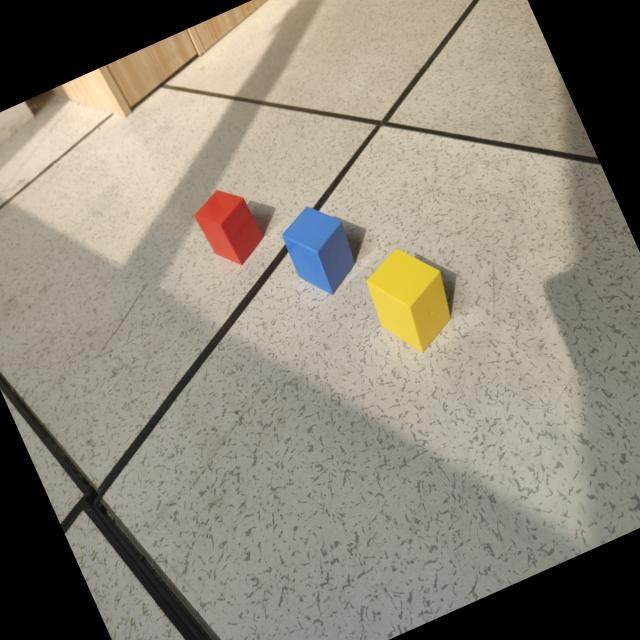blue: (279, 205, 359, 294)
red: (192, 185, 266, 265)
yellow: (364, 241, 451, 355)
